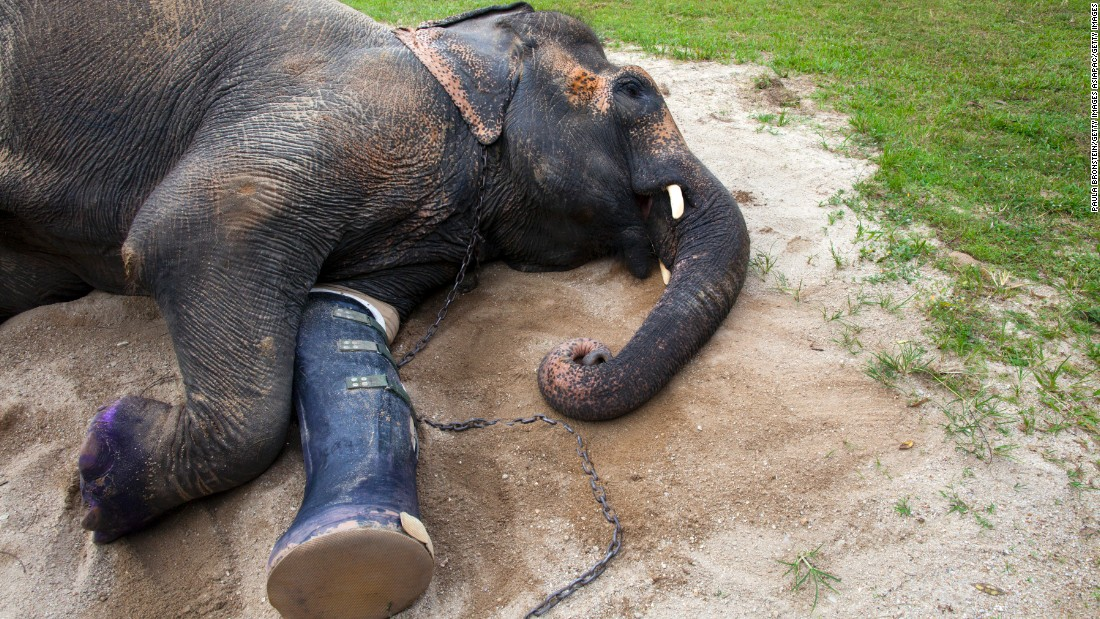elephant: (1, 6, 753, 584)
